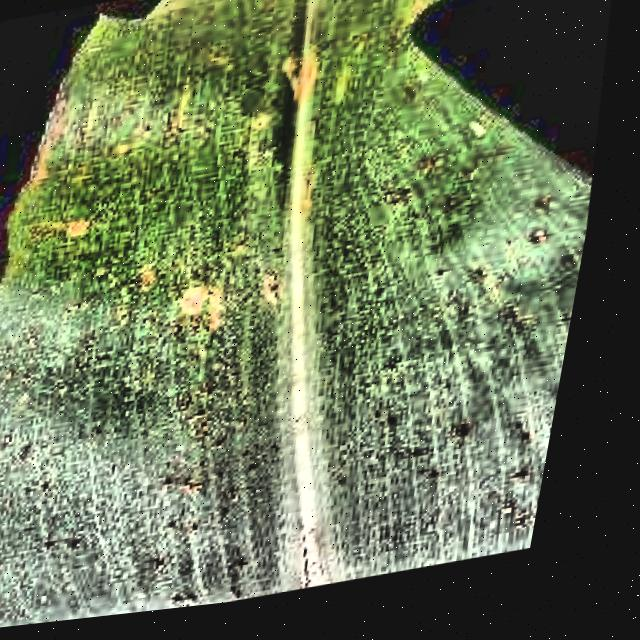common_rust: (0, 0, 635, 638)
